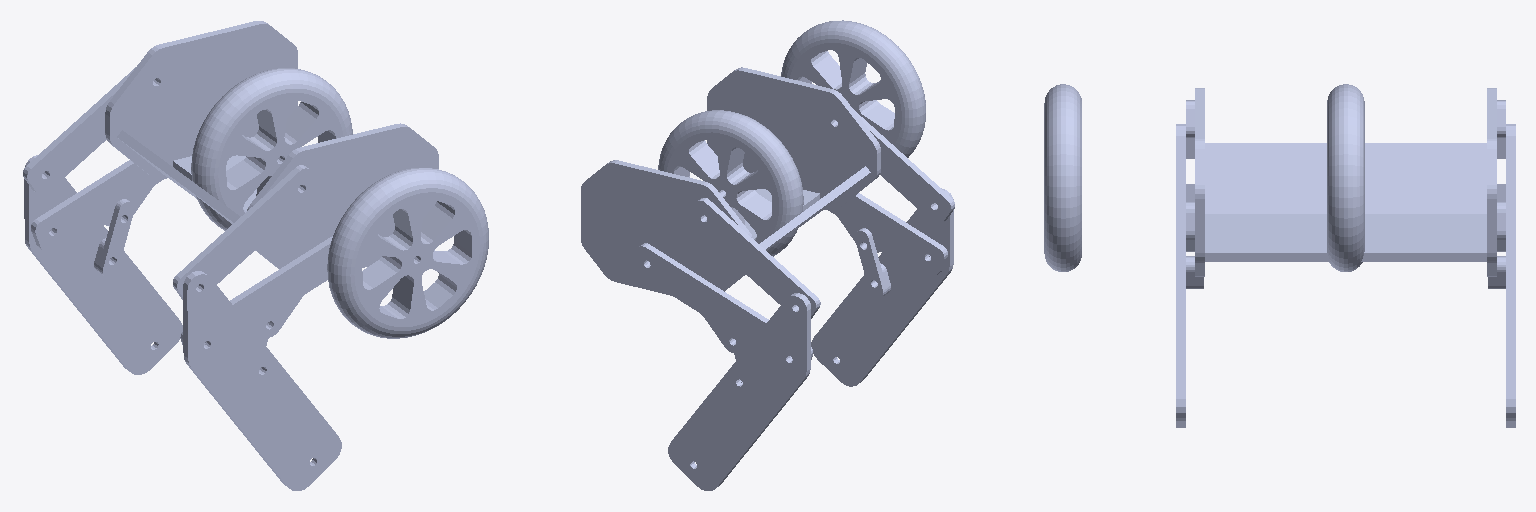
URDF robot description (robot_description):
<?xml version="1.0" encoding="utf-8"?>
<!-- This URDF was automatically created by SolidWorks to URDF Exporter! Originally created by [author] ([email redacted]) 
     Commit Version: 1.6.0-4-g7f85cfe  Build Version: 1.6.7995.38578
     For more information, please see http://wiki.ros.org/sw_urdf_exporter -->
<robot
  name="robot_description">
  <link
    name="Body">
    <inertial>
      <origin
        xyz="-0.00122823958383303 4.16333634234434E-17 0.111919104535524"
        rpy="0 0 0" />
      <mass
        value="0.259687822807211" />
      <inertia
        ixx="0.000263883767567918"
        ixy="1.04528591301818E-19"
        ixz="2.83874959864717E-05"
        iyy="0.00029022151243818"
        iyz="-1.15373324614303E-19"
        izz="0.000304338639837751" />
    </inertial>
    <visual>
      <origin
        xyz="0 0 0"
        rpy="0 0 0" />
      <geometry>
        <mesh
          filename="package://robot_description/meshes/Body.STL" />
      </geometry>
      <material
        name="">
        <color
          rgba="0.792156862745098 0.819607843137255 0.933333333333333 1" />
      </material>
    </visual>
    <collision>
      <origin
        xyz="0 0 0"
        rpy="0 0 0" />
      <geometry>
        <mesh
          filename="package://robot_description/meshes/Body.STL" />
      </geometry>
    </collision>
  </link>
  <link
    name="Wheel_1">
    <inertial>
      <origin
        xyz="-3.53883589099269E-16 3.43013075544458E-17 6.66133814775094E-16"
        rpy="0 0 0" />
      <mass
        value="0.0981527452118754" />
      <inertia
        ixx="7.13246475399758E-05"
        ixy="-1.0128527790249E-20"
        ixz="4.9595293836236E-20"
        iyy="0.00013687545343136"
        iyz="3.05631062116939E-21"
        izz="7.13246475399756E-05" />
    </inertial>
    <visual>
      <origin
        xyz="0 0 0"
        rpy="0 0 0" />
      <geometry>
        <mesh
          filename="package://robot_description/meshes/Wheel_1.STL" />
      </geometry>
      <material
        name="">
        <color
          rgba="0.792156862745098 0.819607843137255 0.933333333333333 1" />
      </material>
    </visual>
    <collision>
      <origin
        xyz="0 0 0"
        rpy="0 0 0" />
      <geometry>
        <mesh
          filename="package://robot_description/meshes/Wheel_1.STL" />
      </geometry>
    </collision>
  </link>
  <joint
    name="Wheel_1"
    type="continuous">
    <origin
      xyz="0 -0.075 0"
      rpy="0 0 0" />
    <parent
      link="Body" />
    <child
      link="Wheel_1" />
    <axis
      xyz="0 -1 0" />
  </joint>
  <link
    name="Wheel_2">
    <inertial>
      <origin
        xyz="5.06539254985228E-16 0.01 6.66133814775094E-16"
        rpy="0 0 0" />
      <mass
        value="0.0981527452118754" />
      <inertia
        ixx="7.13246475399757E-05"
        ixy="1.1312674562977E-20"
        ixz="4.9475740388328E-20"
        iyy="0.00013687545343136"
        iyz="-2.9293753358638E-21"
        izz="7.13246475399756E-05" />
    </inertial>
    <visual>
      <origin
        xyz="0 0 0"
        rpy="0 0 0" />
      <geometry>
        <mesh
          filename="package://robot_description/meshes/Wheel_2.STL" />
      </geometry>
      <material
        name="">
        <color
          rgba="0.792156862745098 0.819607843137255 0.933333333333333 1" />
      </material>
    </visual>
    <collision>
      <origin
        xyz="0 0 0"
        rpy="0 0 0" />
      <geometry>
        <mesh
          filename="package://robot_description/meshes/Wheel_2.STL" />
      </geometry>
    </collision>
  </link>
  <joint
    name="Wheel_2"
    type="continuous">
    <origin
      xyz="0 0.065 0"
      rpy="0 0 0" />
    <parent
      link="Body" />
    <child
      link="Wheel_2" />
    <axis
      xyz="0 -1 0" />
  </joint>
</robot>

--- Facts derived from the render (not from the file) ---
3 views of the same robot in one strip: view 1: azimuth 30°, elevation 25°; view 2: azimuth 150°, elevation 25°; view 3: azimuth 270°, elevation 25° (orthographic).
Robot: robot_description — 3 links, 2 joints (2 continuous); root link Body; default pose: all joints at 0.
Links seen in each view (by area): view 1: Body, Wheel_1, Wheel_2; view 2: Body, Wheel_2, Wheel_1; view 3: Body, Wheel_1, Wheel_2.
Boxes of the visible links, x1,y1,x2,y2 form: Body: (23,21,438,490); Wheel_1: (327,168,488,338); Wheel_2: (191,68,352,230); Body: (581,67,954,490); Wheel_2: (658,110,803,256); Wheel_1: (781,20,925,157); Body: (1176,88,1515,427); Wheel_1: (1044,84,1081,271); Wheel_2: (1327,84,1364,271).
Size in the robot's own frame: 0.1696 by 0.25 by 0.2107 metres.
3 mesh visuals loaded from 3 distinct referenced files (3 binary STL).